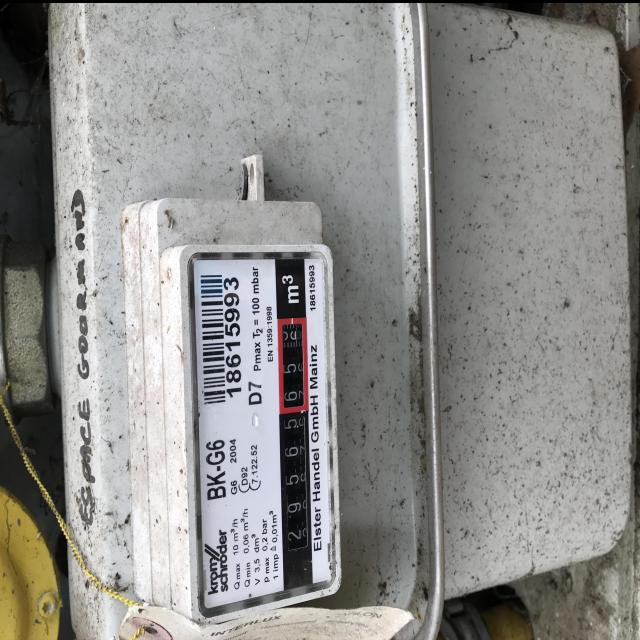gaz_meter: (186, 249, 342, 619)
indication: (277, 319, 312, 553)
